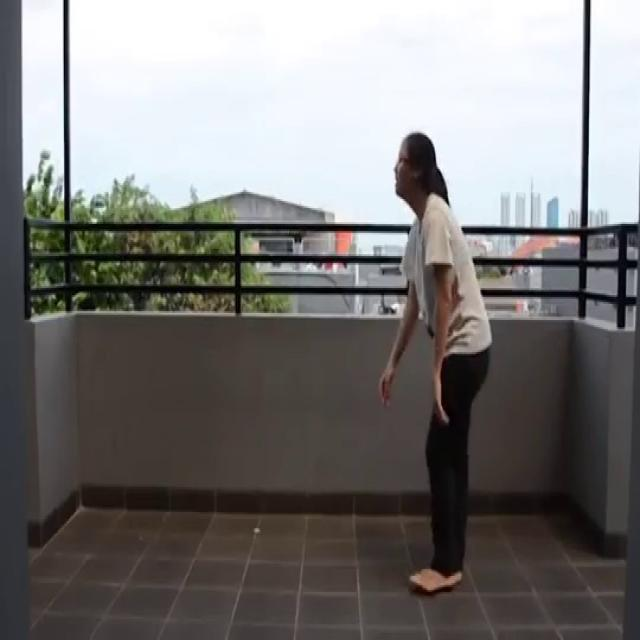normal: (372, 126, 501, 610)
